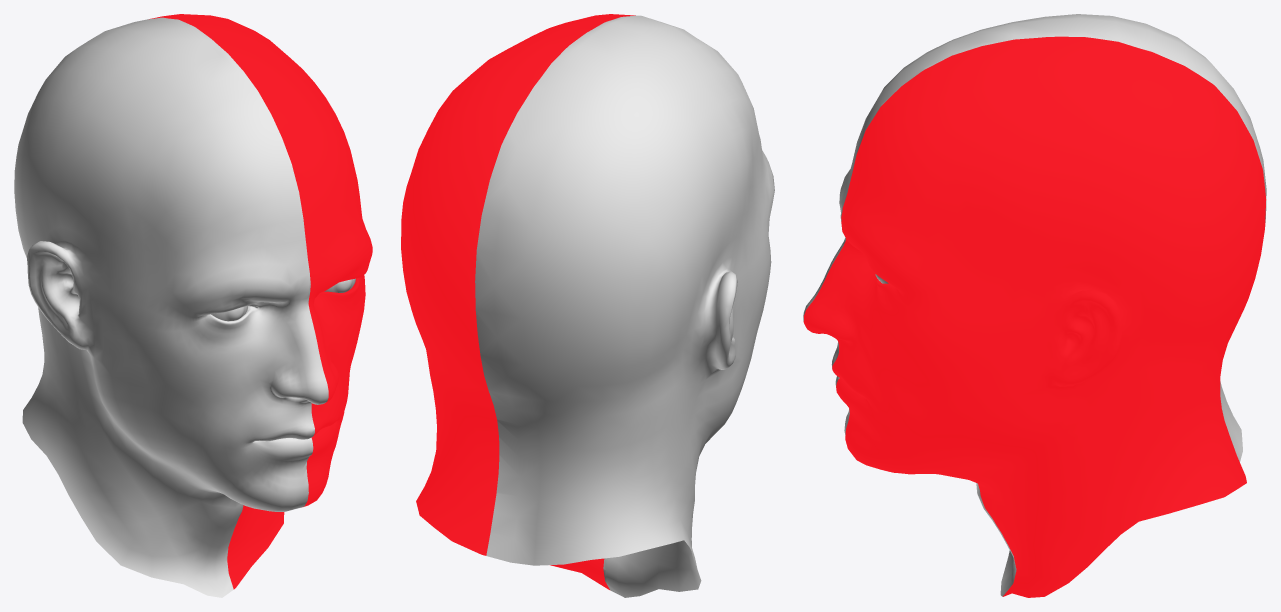
File: Migraine.glb
3 renders of one model, left to right at view 1: azimuth 30°, elevation 25°; view 2: azimuth 150°, elevation 25°; view 3: azimuth 270°, elevation 25°, orthographic. The views are drawn at different scales.
Parts seen in each view (by area): view 1: man_body_0014 uv map_Material.004_0.001, man_body_0014 uv map; view 2: man_body_0014 uv map_Material.004_0.001, man_body_0014 uv map; view 3: man_body_0014 uv map, man_body_0014 uv map_Material.004_0.001.
Part boxes in pixels (x1=…): man_body_0014 uv map_Material.004_0.001: x1=14, y1=17, x2=328, y2=597; man_body_0014 uv map: x1=149, y1=14, x2=372, y2=589; man_body_0014 uv map_Material.004_0.001: x1=475, y1=15, x2=774, y2=597; man_body_0014 uv map: x1=401, y1=14, x2=635, y2=589; man_body_0014 uv map: x1=803, y1=36, x2=1266, y2=597; man_body_0014 uv map_Material.004_0.001: x1=803, y1=14, x2=1266, y2=596.
Bounding box in the file's own units: 0.1766 × 0.3089 × 0.2292.
